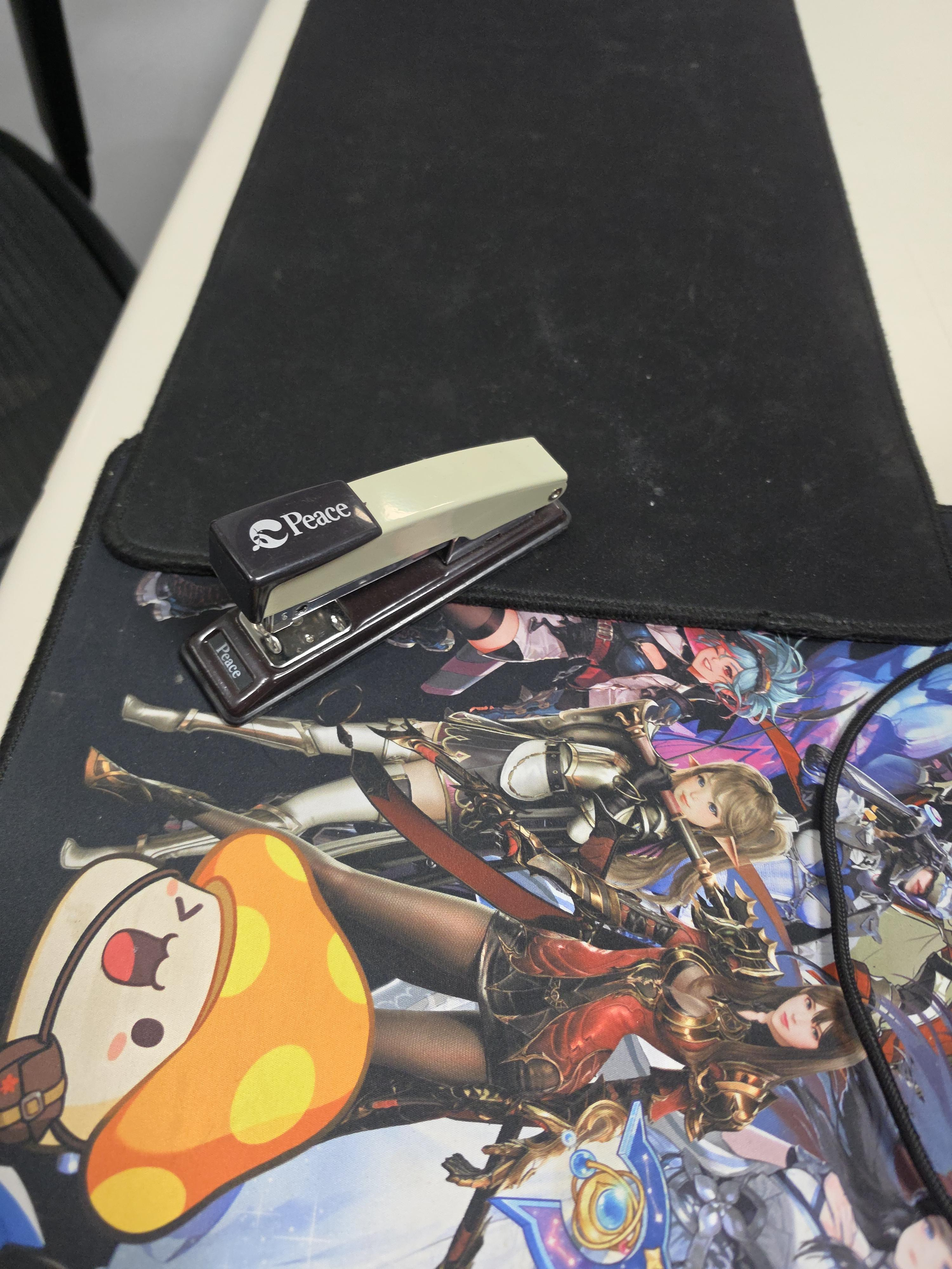stapler: (180, 436, 572, 727)
